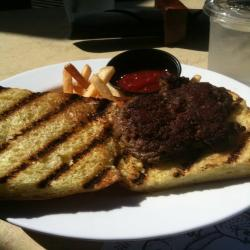burger: (6, 86, 250, 195)
fries: (57, 64, 124, 108)
ketchup: (111, 61, 175, 99)
